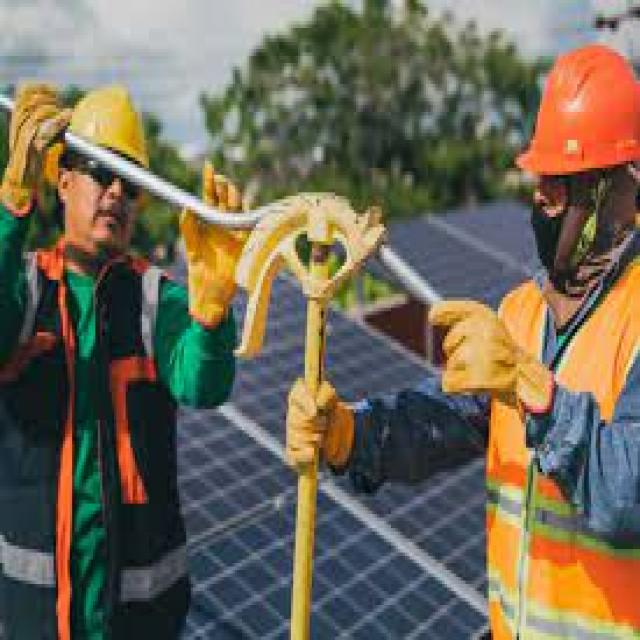Reflective-Jacket: (2, 238, 193, 633), (477, 259, 635, 636)
Safety-Helmet: (514, 38, 640, 189), (47, 73, 165, 203)
